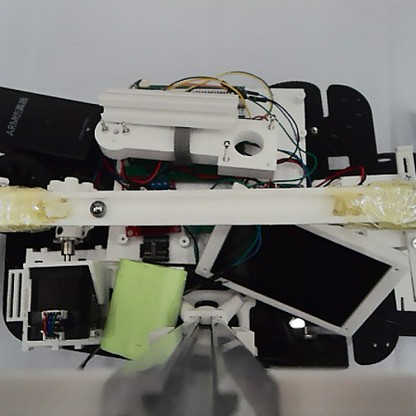ironball: (86, 196, 109, 219)
